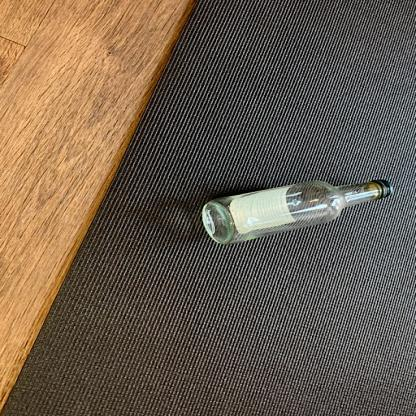trash: (202, 175, 394, 247)
